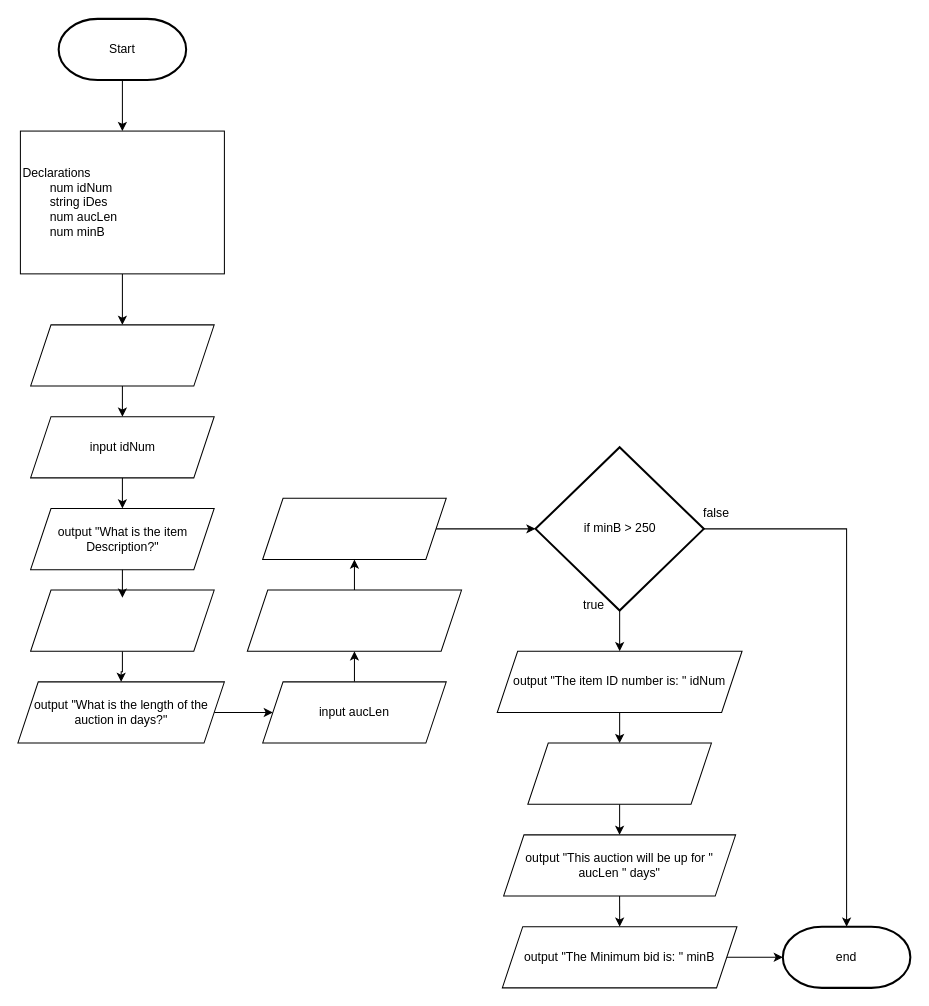
The diagram is 929 pixels wide and 1006 high, and some of its shapes have lost their labels. Each missing label, with the box of its shape:
input iDes: (30, 589, 214, 651)
input minB: (262, 497, 446, 559)
output "Description: " iDes: (527, 742, 711, 804)
output "What is the item ID number?": (30, 324, 214, 386)
output "What is the minimum bid?": (246, 589, 462, 651)
